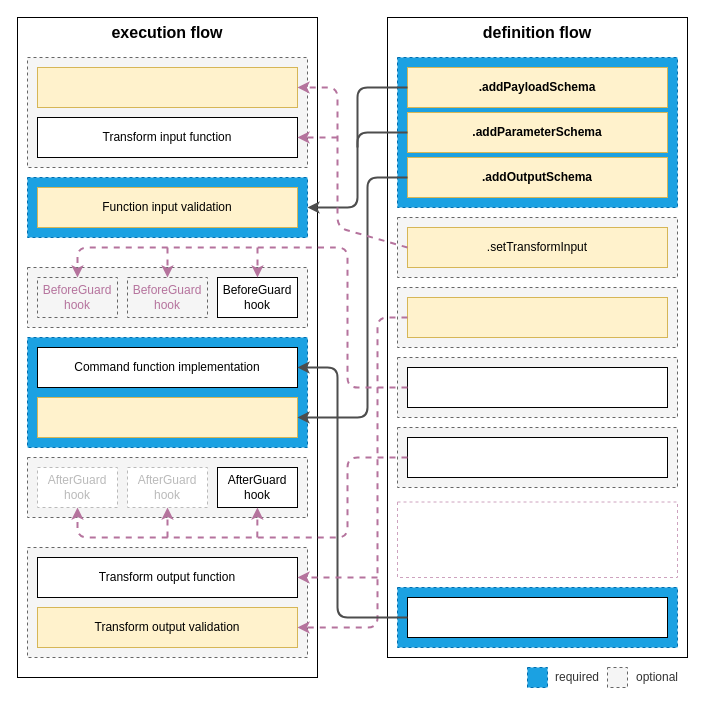
This 705x705 diagram has some shape labels left out. The shapes that lost their labels are listed below. From the top down, each one's box as (x1, y1, x2, y2) in pixels, then its label:
(36, 66, 298, 108): Transform input validation
(406, 296, 668, 338): .setTransformOutput
(406, 366, 668, 408): .setBeforeGuardHooks
(36, 396, 298, 438): Function output validation
(406, 436, 668, 478): .setBeforeAfterHooks
(396, 501, 678, 578): other configurations
(406, 596, 668, 638): .setCommandFunction
